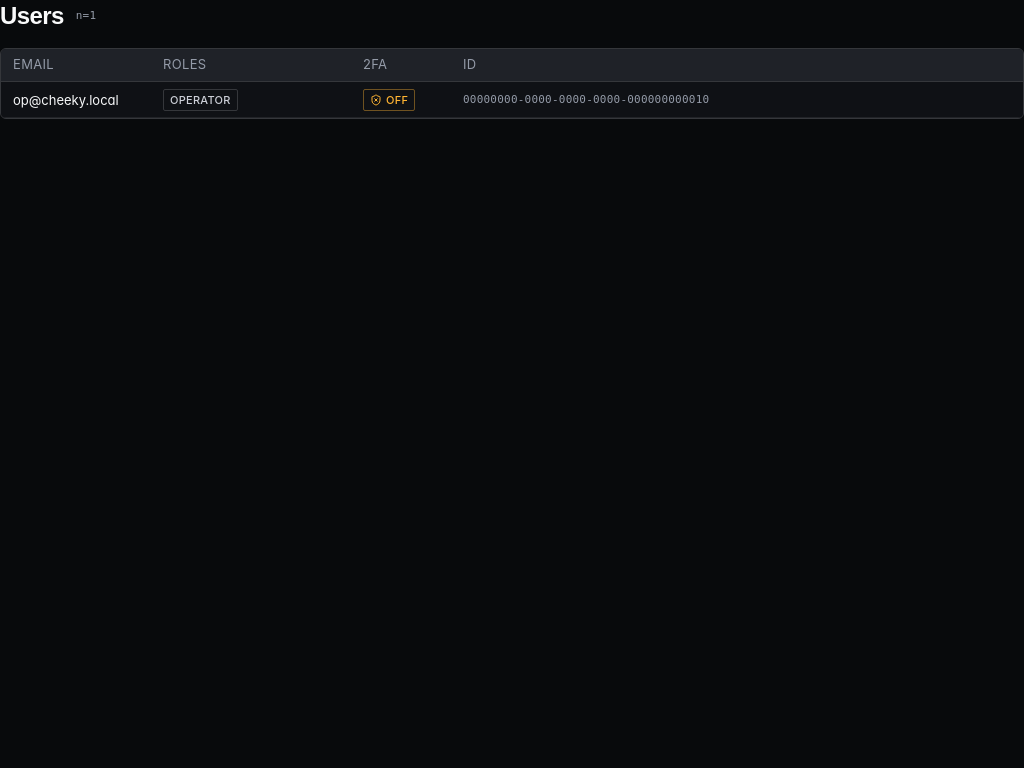
Test: UsersView › PATCHes the user with the new roles + reset_totp flag
Click the text "op@cheeky.local" at (66, 100), box 13,90 -> 119,110
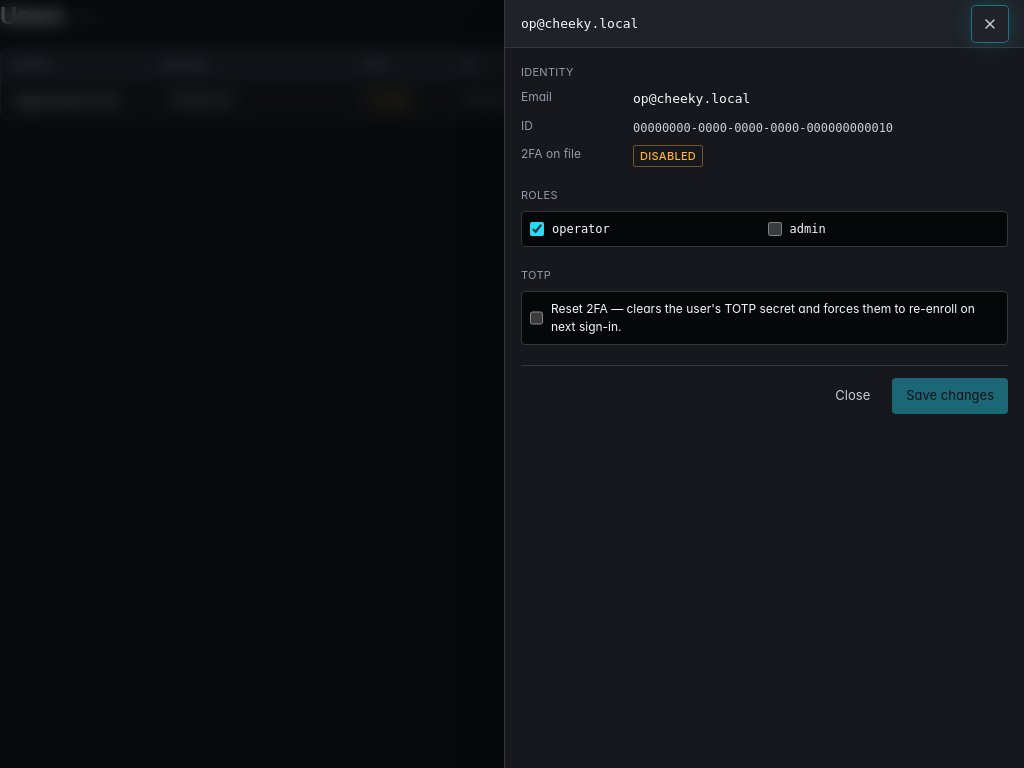
Click the checkbox labelled "admin" at (774, 229), box 768,222 -> 782,236
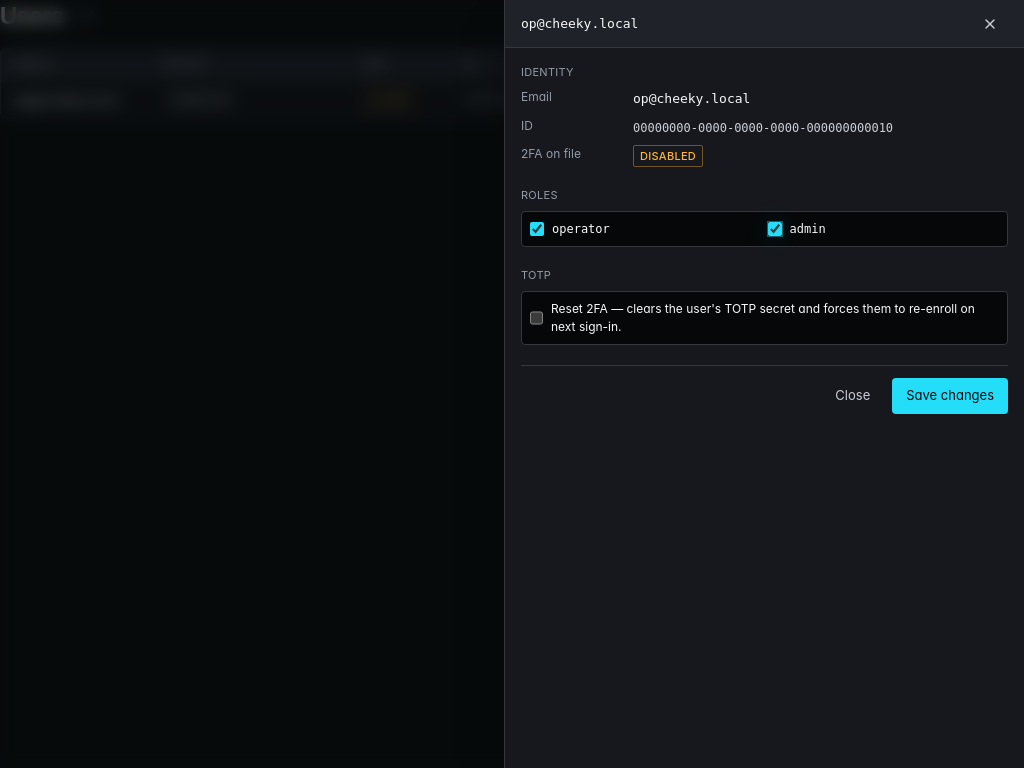
Click the checkbox named "reset totp" at (536, 318), box 530,311 -> 543,325
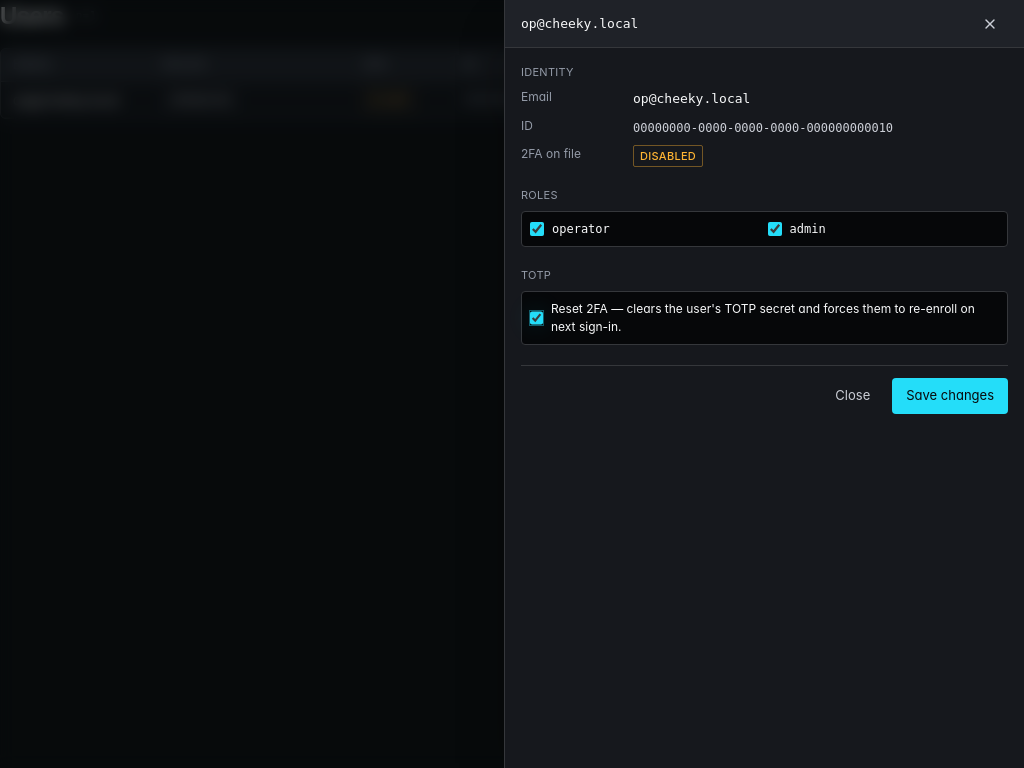
Click the button "Save changes" at (950, 396), box 892,378 -> 1008,414
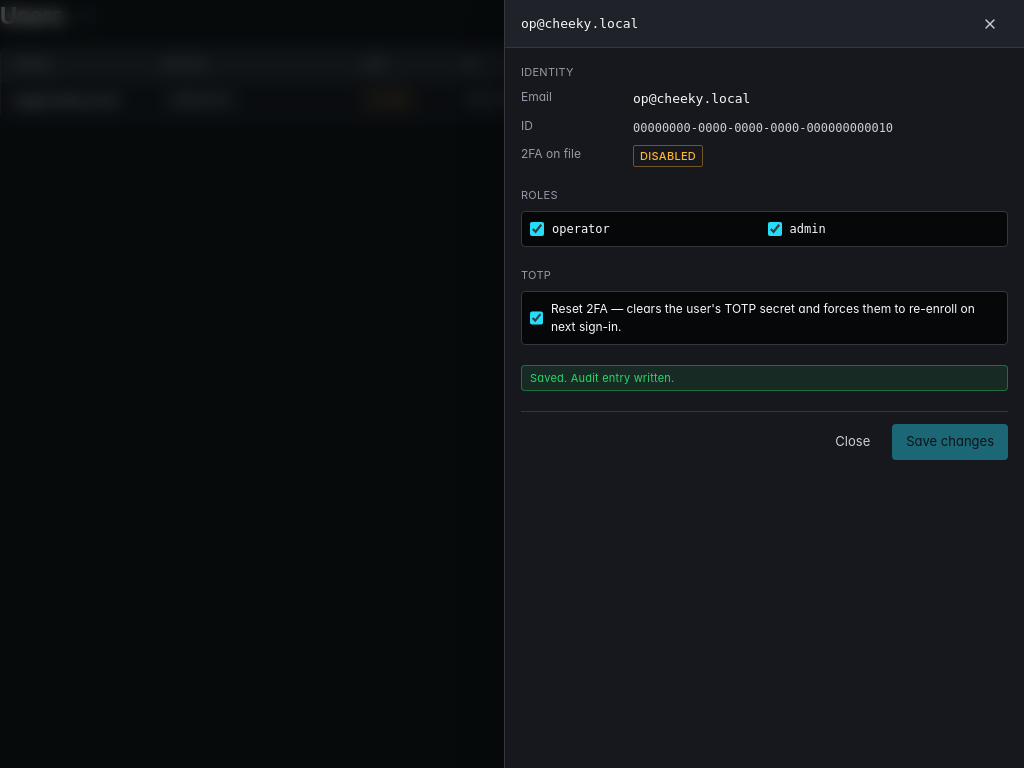
Check: the message "Saved. Audit entry written." is shown, box 521,365 -> 1008,391
